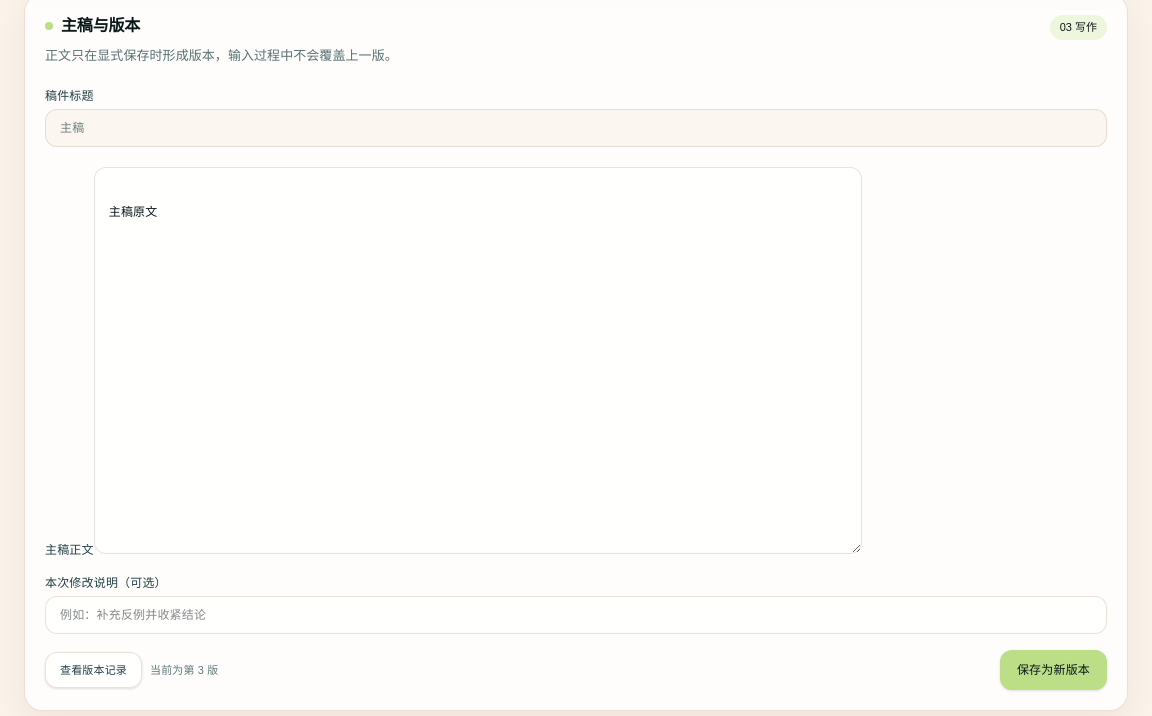
Test: ProjectWorkspace › 主稿有未保存修改时不允许用旧 Revision 准备输出
The image size is (1152, 716).
(page scrolled)
Replace the text in the text box labelled "主稿正文" with "还没有保存的新主稿" at x=478, y=361, box [94,167,862,554]
(page scrolled)
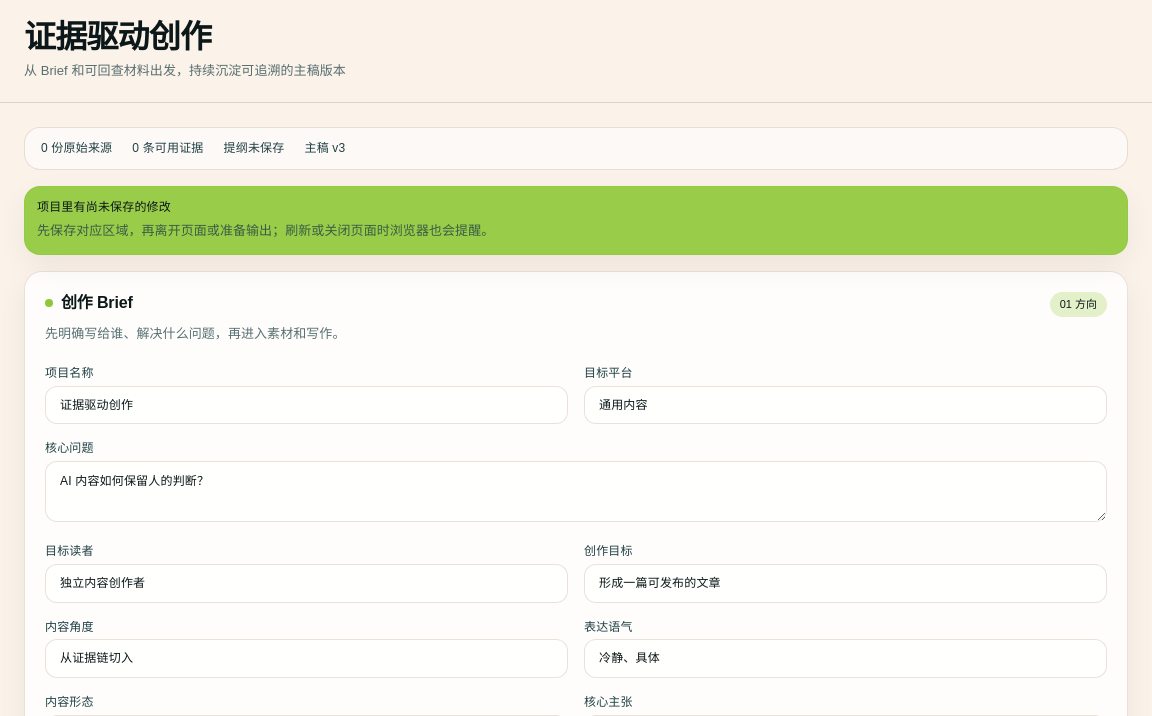
Now the text "项目里有尚未保存的修改" is shown, box [37,200,171,214]
